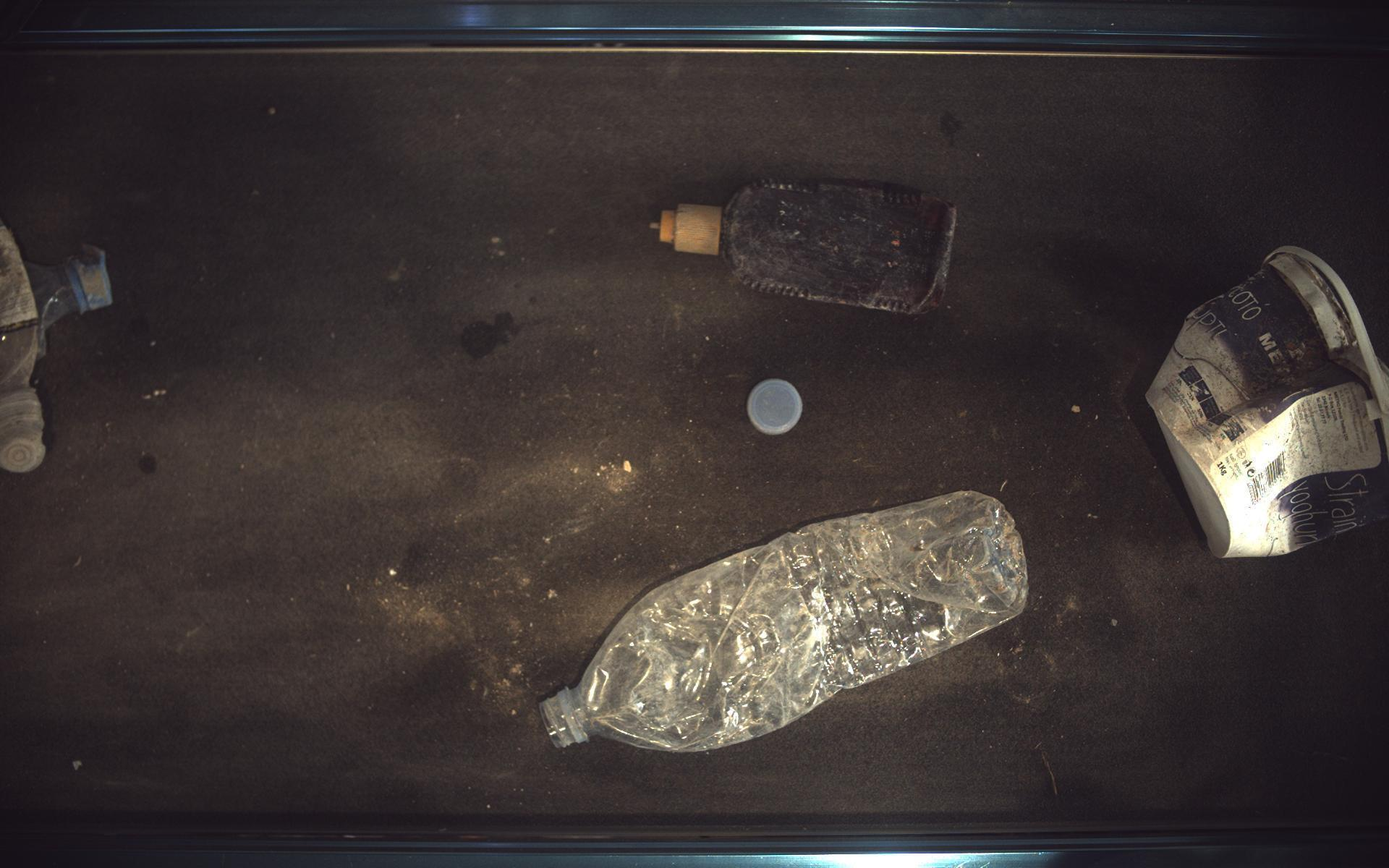general_w: (540, 492, 1030, 753), (1150, 246, 1389, 558), (657, 179, 959, 315), (749, 379, 804, 435)
